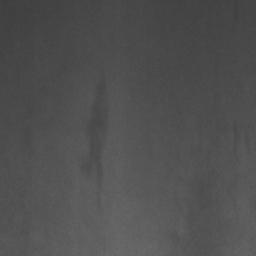Inclusion: (86, 74, 109, 182)
